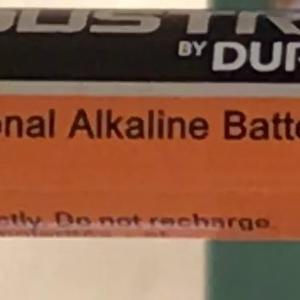keyword: (58, 99, 113, 149)
